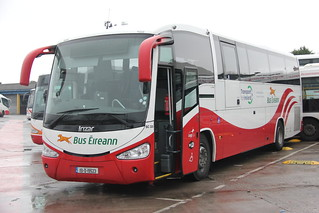bus: (41, 23, 303, 183)
